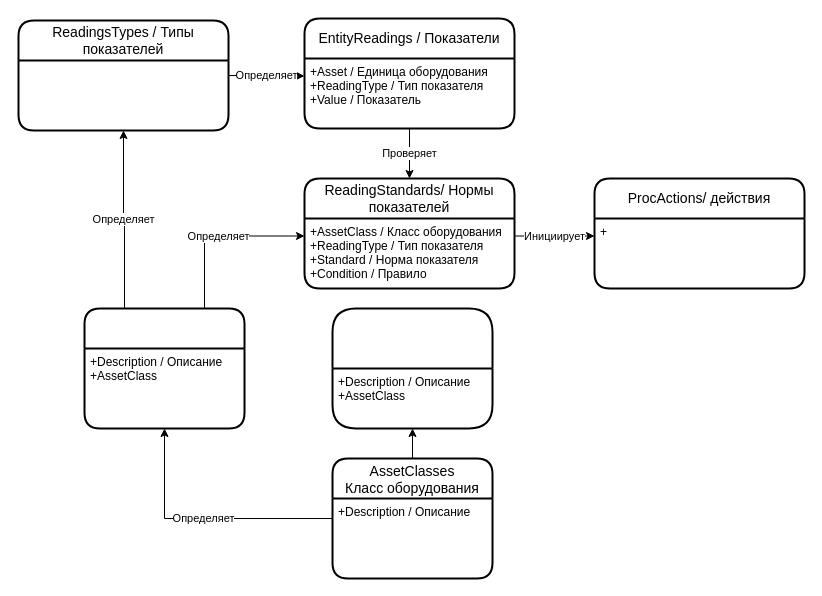
The diagram is 822 pixels wide and 596 high, and some of its shapes have lost their labels. Here are the shapes that lost their labels. From the top down, the box of each, then its label:
(83, 307, 245, 429): TypesOfMaintenance Тип обслуживания
(331, 307, 493, 429): Assets Оборудование / Освновные средства
